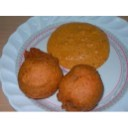bonda: (19, 48, 60, 99), (63, 64, 104, 112)
